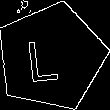L_N: (33, 30, 69, 84)
